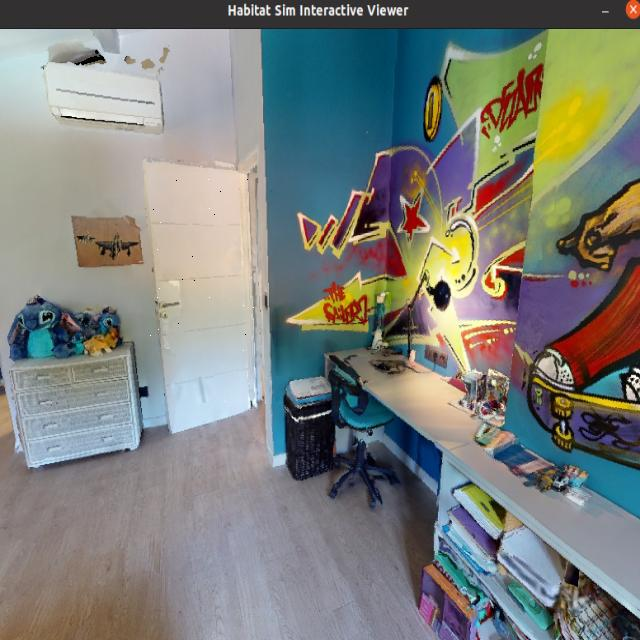door: (148, 168, 262, 421)
